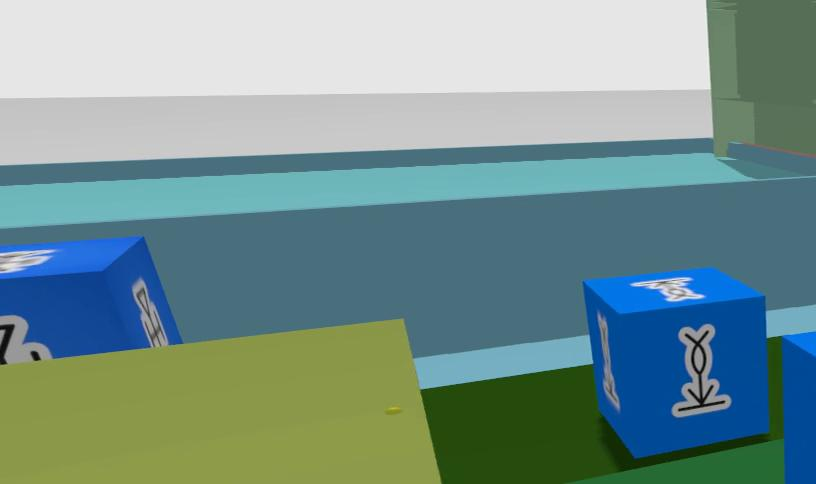KFS_REAL: (582, 267, 768, 456), (0, 236, 181, 364), (671, 324, 730, 416), (783, 331, 816, 484), (598, 313, 620, 409), (631, 277, 704, 301)
